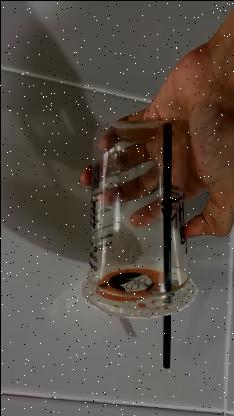Others: (82, 118, 196, 338)
